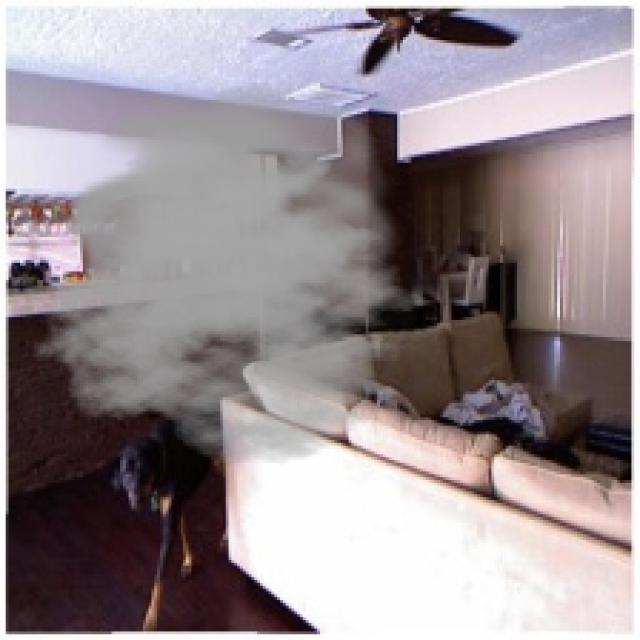smoke: (31, 83, 448, 466)
